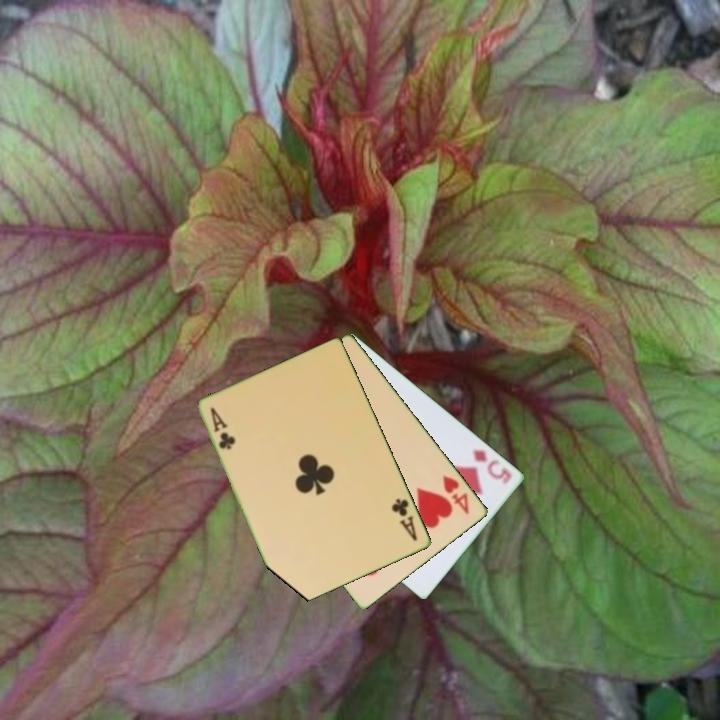4h: (439, 472, 472, 517)
5d: (470, 446, 515, 487)
Ac: (388, 495, 420, 544), (207, 404, 239, 453)
